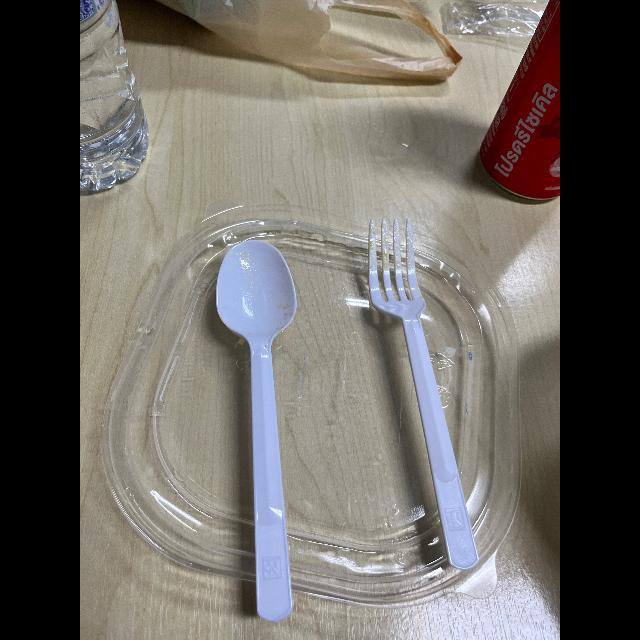plastic_cultery: (200, 224, 330, 618), (362, 212, 484, 576)
